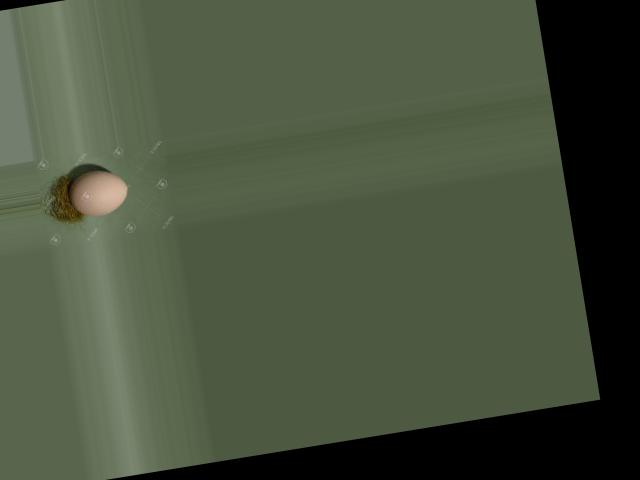egg: (66, 166, 131, 219)
